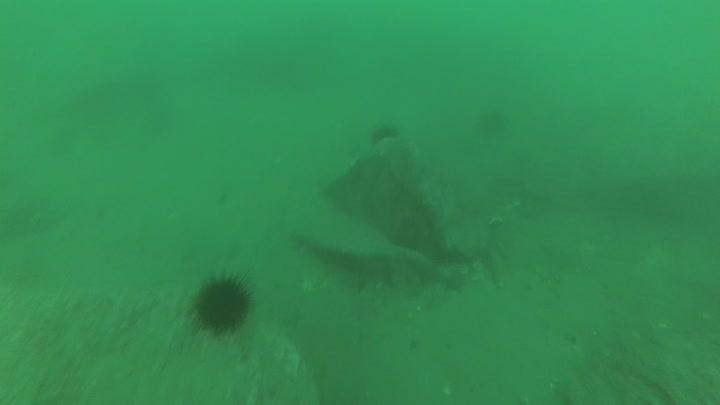echinus: (187, 271, 256, 339), (370, 123, 404, 149)
